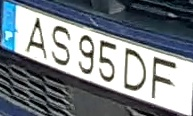5: (97, 38, 117, 83)
9: (77, 33, 95, 75)
A: (22, 16, 47, 60)
D: (122, 45, 148, 92)
F: (150, 55, 177, 100)
S: (49, 24, 72, 66)
